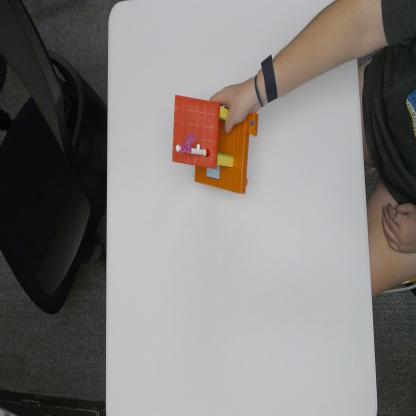Arm: (281, 1, 384, 83)
Hand: (210, 78, 266, 124)
House: (173, 94, 259, 197)
